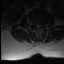CCS_stenosis: (37, 22, 39, 30)
LFS_severe_stenosis: (41, 22, 44, 28)
LLS_stenosis: (39, 22, 41, 29)
RFS_stenosis: (32, 21, 35, 28)
RLS_stenosis: (35, 22, 37, 28)
